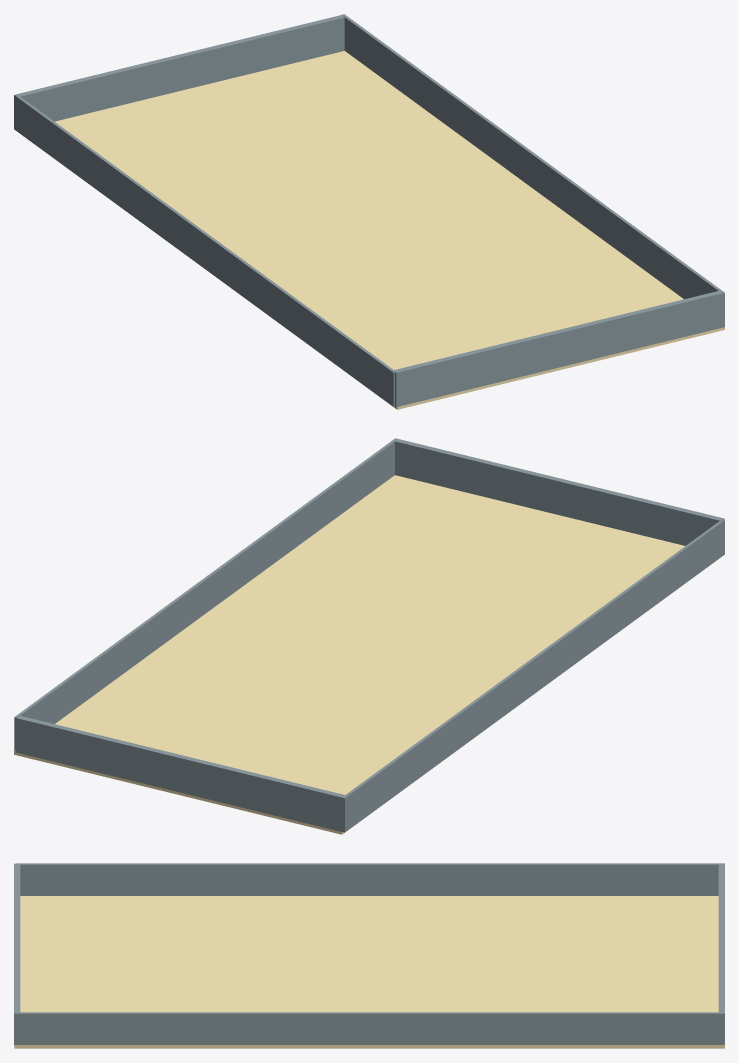
File: office.glb
3 renders of one model, top to bottom at view 1: azimuth 30°, elevation 25°; view 2: azimuth 150°, elevation 25°; view 3: azimuth 270°, elevation 25°, orthographic. The views are drawn at different scales.
Parts seen in each view (by area): view 1: Object_8, Object_4.001, Object_4; view 2: Object_8, Object_4, Object_4.001; view 3: Object_8, Object_4.001, Object_4.
Boxes of the visible parts, left/top/right/bottom form: Object_8: left=55, top=51, right=724, bottom=409; Object_4.001: left=342, top=14, right=724, bottom=407; Object_4: left=14, top=15, right=394, bottom=406; Object_8: left=14, top=475, right=684, bottom=834; Object_4: left=15, top=519, right=724, bottom=832; Object_4.001: left=14, top=438, right=724, bottom=750; Object_8: left=14, top=896, right=724, bottom=1048; Object_4.001: left=14, top=863, right=724, bottom=1045; Object_4: left=16, top=863, right=724, bottom=1043.
Size of the model in its own units: 20.28 by 2.2 by 40.48.
